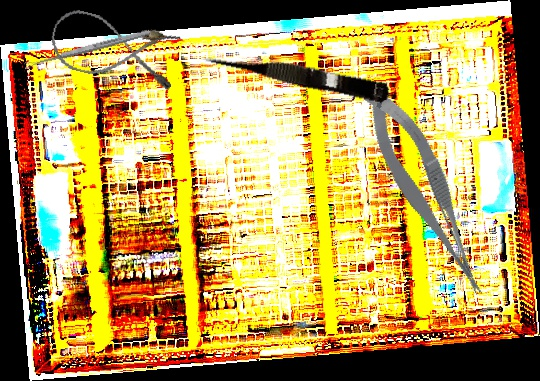Cannula: (44, 5, 184, 94)
Micro Scissor: (357, 76, 492, 309), (199, 42, 393, 105)
Surgical Spoon: (23, 28, 151, 70)
